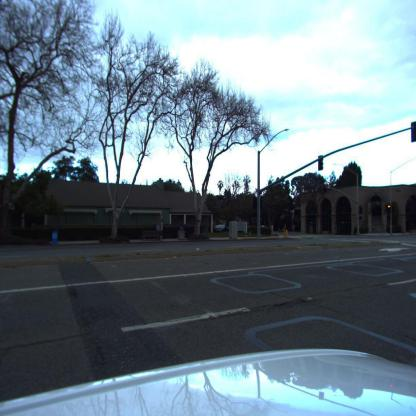car: (214, 224, 228, 232)
